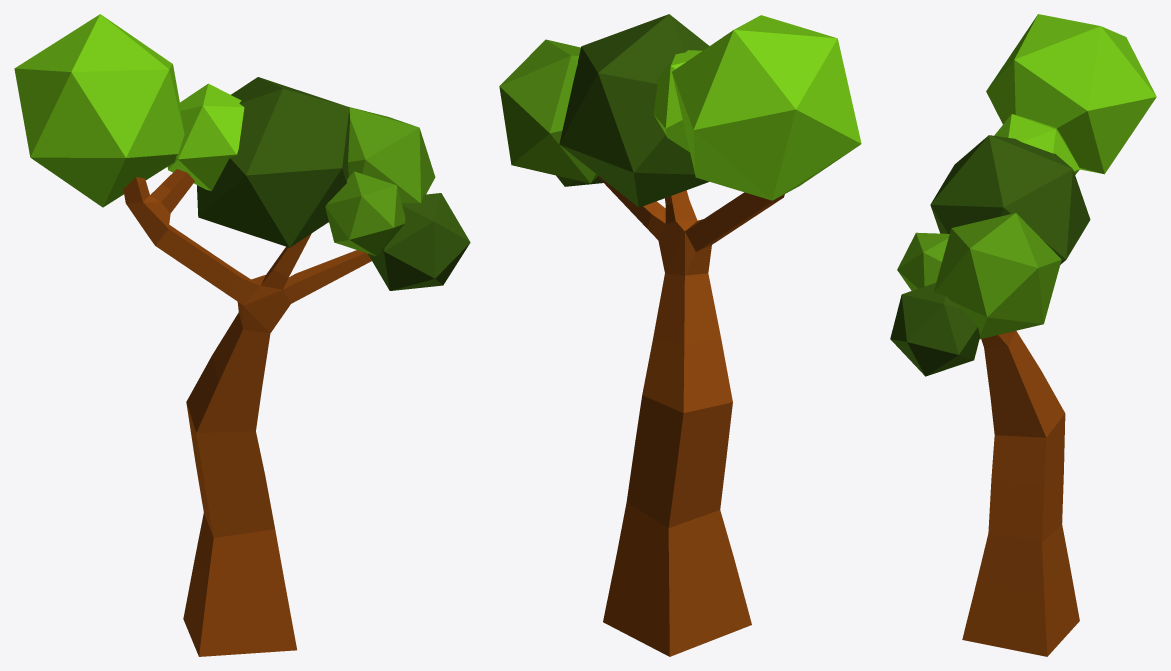
File: Small Ico Tree.fbx
3 views of the same model, side by side, from view 1: azimuth 30°, elevation 25°; view 2: azimuth 150°, elevation 25°; view 3: azimuth 270°, elevation 25° (orthographic). The views are drawn at different scales.
Parts seen in each view (by area): view 1: Cube; view 2: Cube; view 3: Cube.
Part boxes in pixels (x1=…): Cube: x1=14, y1=14, x2=470, y2=656; Cube: x1=499, y1=14, x2=861, y2=656; Cube: x1=890, y1=14, x2=1156, y2=656.
Size of what is drawn, in the model's own units: 115 by 183 by 78.58.
